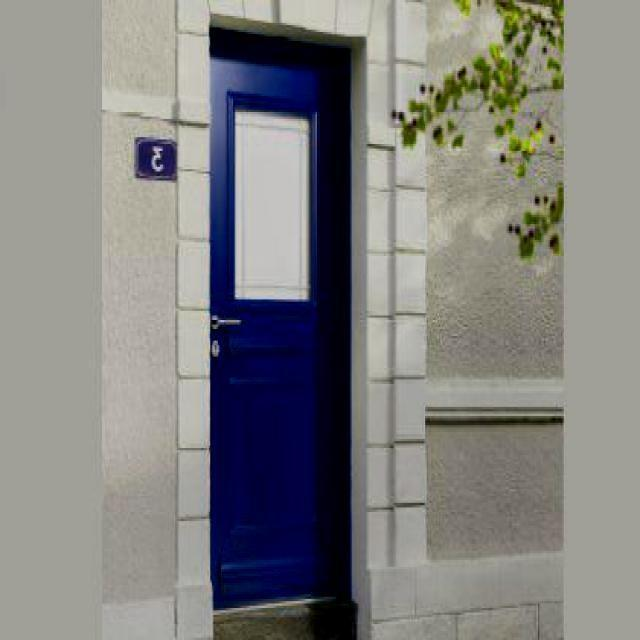door: (207, 27, 353, 611)
